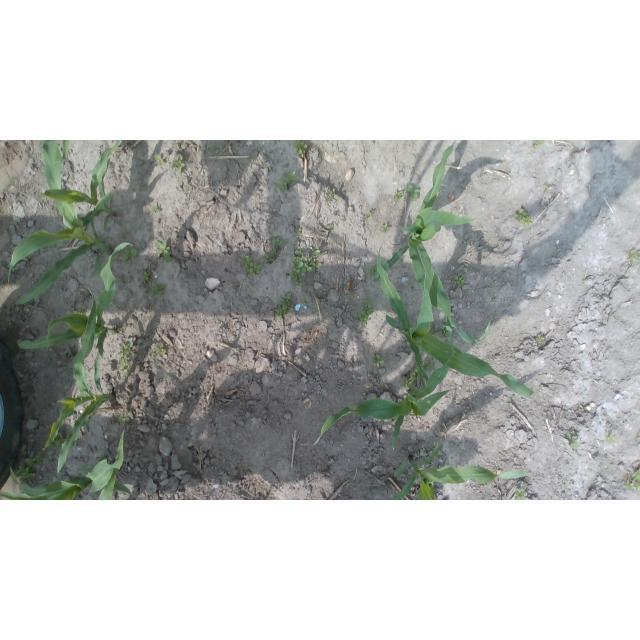Maize: (377, 239, 536, 398), (373, 141, 492, 344), (1, 141, 115, 306), (313, 336, 456, 453), (15, 241, 134, 351), (48, 284, 114, 473), (1, 427, 128, 500), (39, 140, 123, 232), (395, 444, 532, 500)
Weeds: (289, 250, 323, 287), (401, 359, 435, 389), (262, 237, 284, 263), (21, 446, 47, 467), (240, 253, 262, 277), (118, 342, 134, 375), (274, 293, 294, 319), (276, 171, 296, 195), (14, 466, 38, 486), (358, 299, 375, 326), (45, 431, 67, 450), (154, 240, 172, 263), (428, 322, 452, 339), (514, 209, 532, 228), (626, 469, 640, 492), (293, 140, 310, 158), (149, 283, 167, 300), (121, 246, 139, 262), (567, 430, 582, 449), (170, 155, 185, 174), (323, 188, 338, 204), (406, 185, 420, 202), (372, 353, 385, 368), (454, 275, 468, 287), (155, 343, 167, 357), (119, 412, 132, 423), (629, 249, 640, 262), (605, 433, 617, 444), (149, 203, 160, 215), (76, 305, 88, 316), (309, 245, 322, 255), (532, 140, 544, 150), (515, 488, 525, 500), (154, 154, 166, 164), (368, 265, 377, 277), (393, 191, 403, 201), (142, 272, 150, 283), (381, 224, 390, 233), (301, 296, 310, 304), (364, 213, 373, 220), (296, 228, 303, 237), (536, 336, 544, 342), (326, 224, 335, 229), (211, 145, 217, 152), (543, 184, 551, 189), (218, 322, 224, 327), (118, 328, 123, 333), (638, 432, 640, 436)
